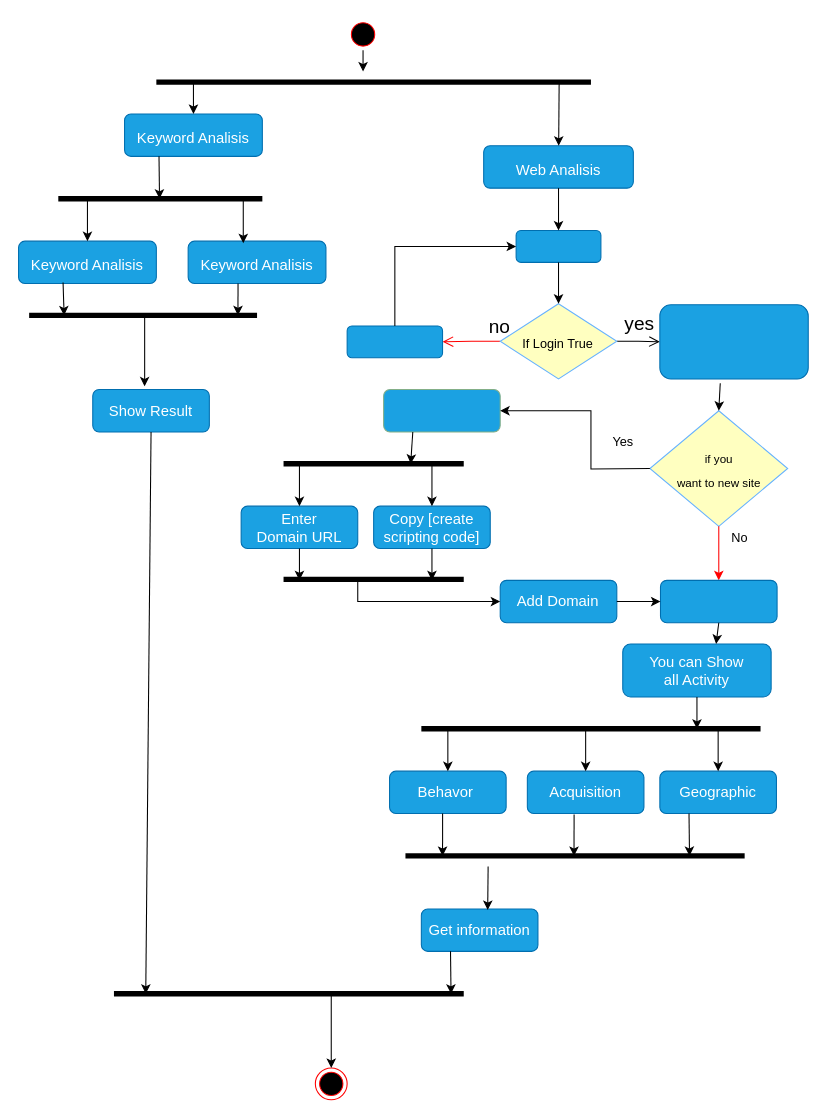
Some shapes in this 827 by 1118 pixel diagram are drawn without their labels. Here are the shapes that lost their labels. From the top down, the centre of each, then its label:
pixel 558 245: Login
pixel 394 341: Sigin Up
pixel 733 341: Login Success [ Set UserName & UserID to Session ] Goto Dashboard
pixel 441 410: Add new site
pixel 718 601: Select Domain
